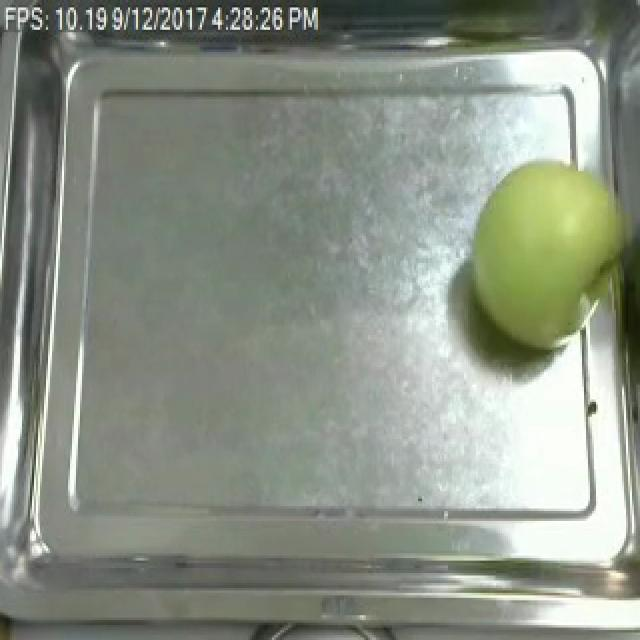50-_ripeness: (450, 152, 629, 352)
